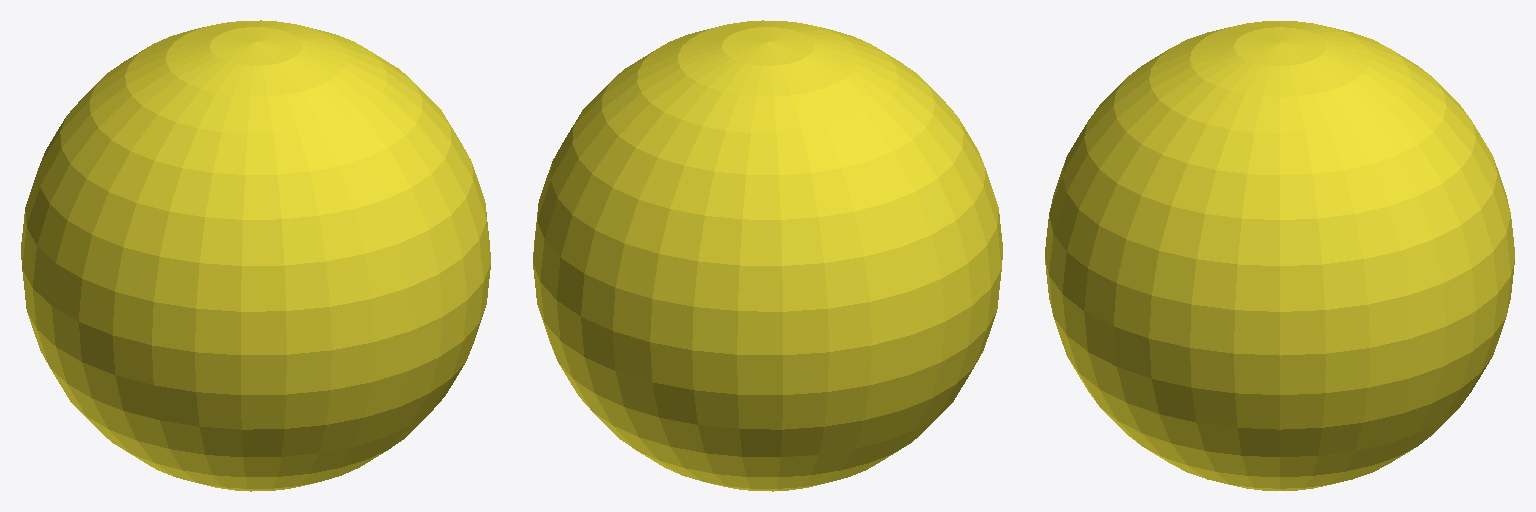
The robot description file, URDF, robot "hand":
<?xml version="1.0" encoding="utf-8"?>
<!-- =================================================================================== -->
<!-- |    This document was autogenerated by xacro from hand.urdf.xacro                | -->
<!-- |    EDITING THIS FILE BY HAND IS NOT RECOMMENDED                                 | -->
<!-- =================================================================================== -->
<robot name="hand">
  <link name="panda_hand">
    <visual>
      <geometry>
        <mesh filename="package://franka_description/meshes/visual/hand.dae"/>
      </geometry>
    </visual>
    <collision>
      <geometry>
        <mesh filename="package://franka_description/meshes/collision/hand.stl"/>
      </geometry>
    </collision>
  </link>
  <link name="panda_leftfinger">
    <visual>
      <geometry>
        <mesh filename="package://franka_description/meshes/visual/finger.dae"/>
      </geometry>
    </visual>
    <collision>
      <geometry>
        <mesh filename="package://franka_description/meshes/collision/finger.stl"/>
      </geometry>
    </collision>
  </link>
  <link name="panda_rightfinger">
    <visual>
      <origin rpy="0 0 3.14159265359" xyz="0 0 0"/>
      <geometry>
        <mesh filename="package://franka_description/meshes/visual/finger.dae"/>
      </geometry>
    </visual>
    <collision>
      <origin rpy="0 0 3.14159265359" xyz="0 0 0"/>
      <geometry>
        <mesh filename="package://franka_description/meshes/collision/finger.stl"/>
      </geometry>
    </collision>
  </link>
  <link name="panda_tcp">
    <visual>
      <geometry>
        <sphere radius="0.002"/>
      </geometry>
    </visual>
  </link>
  <joint name="panda_finger_joint1" type="prismatic">
    <parent link="panda_hand"/>
    <child link="panda_leftfinger"/>
    <origin rpy="0 0 0" xyz="0 0 0.0584"/>
    <axis xyz="0 1 0"/>
    <limit effort="20" lower="0.0" upper="0.04" velocity="0.2"/>
  </joint>
  <joint name="panda_finger_joint2" type="prismatic">
    <parent link="panda_hand"/>
    <child link="panda_rightfinger"/>
    <origin rpy="0 0 0" xyz="0 0 0.0584"/>
    <axis xyz="0 -1 0"/>
    <limit effort="20" lower="0.0" upper="0.04" velocity="0.2"/>
    <mimic joint="panda_finger_joint1"/>
  </joint>
  <joint name="panda_tcp_joint" type="fixed">
    <parent link="panda_hand"/>
    <child link="panda_tcp"/>
    <origin rpy="0 0 0" xyz="0.0 0 0.1"/>
    <axis xyz="0 0 1"/>
  </joint>
</robot>

--- Facts derived from the render (not from the file) ---
Views: 3 orthographic renders of the robot side by side, from view 1: azimuth 30°, elevation 25°; view 2: azimuth 150°, elevation 25°; view 3: azimuth 270°, elevation 25°.
Model hand with 4 links and 3 joints (2 prismatic, 1 fixed), rooted at panda_hand, posed every joint at zero.
Links seen in each view (by area): view 1: panda_tcp; view 2: panda_tcp; view 3: panda_tcp.
Link boxes in pixels (x1,y1,x2,y2): panda_tcp: [21, 20, 490, 491]; panda_tcp: [533, 20, 1002, 491]; panda_tcp: [1045, 21, 1514, 490].
Bounding box of the posed robot: 0.004 × 0.004 × 0.004 m (x, y, z).
Meshes: 2 distinct files referenced, 0 mesh visuals loaded (none loaded); not drawn: 3 (reference not matched to a file when rendering).